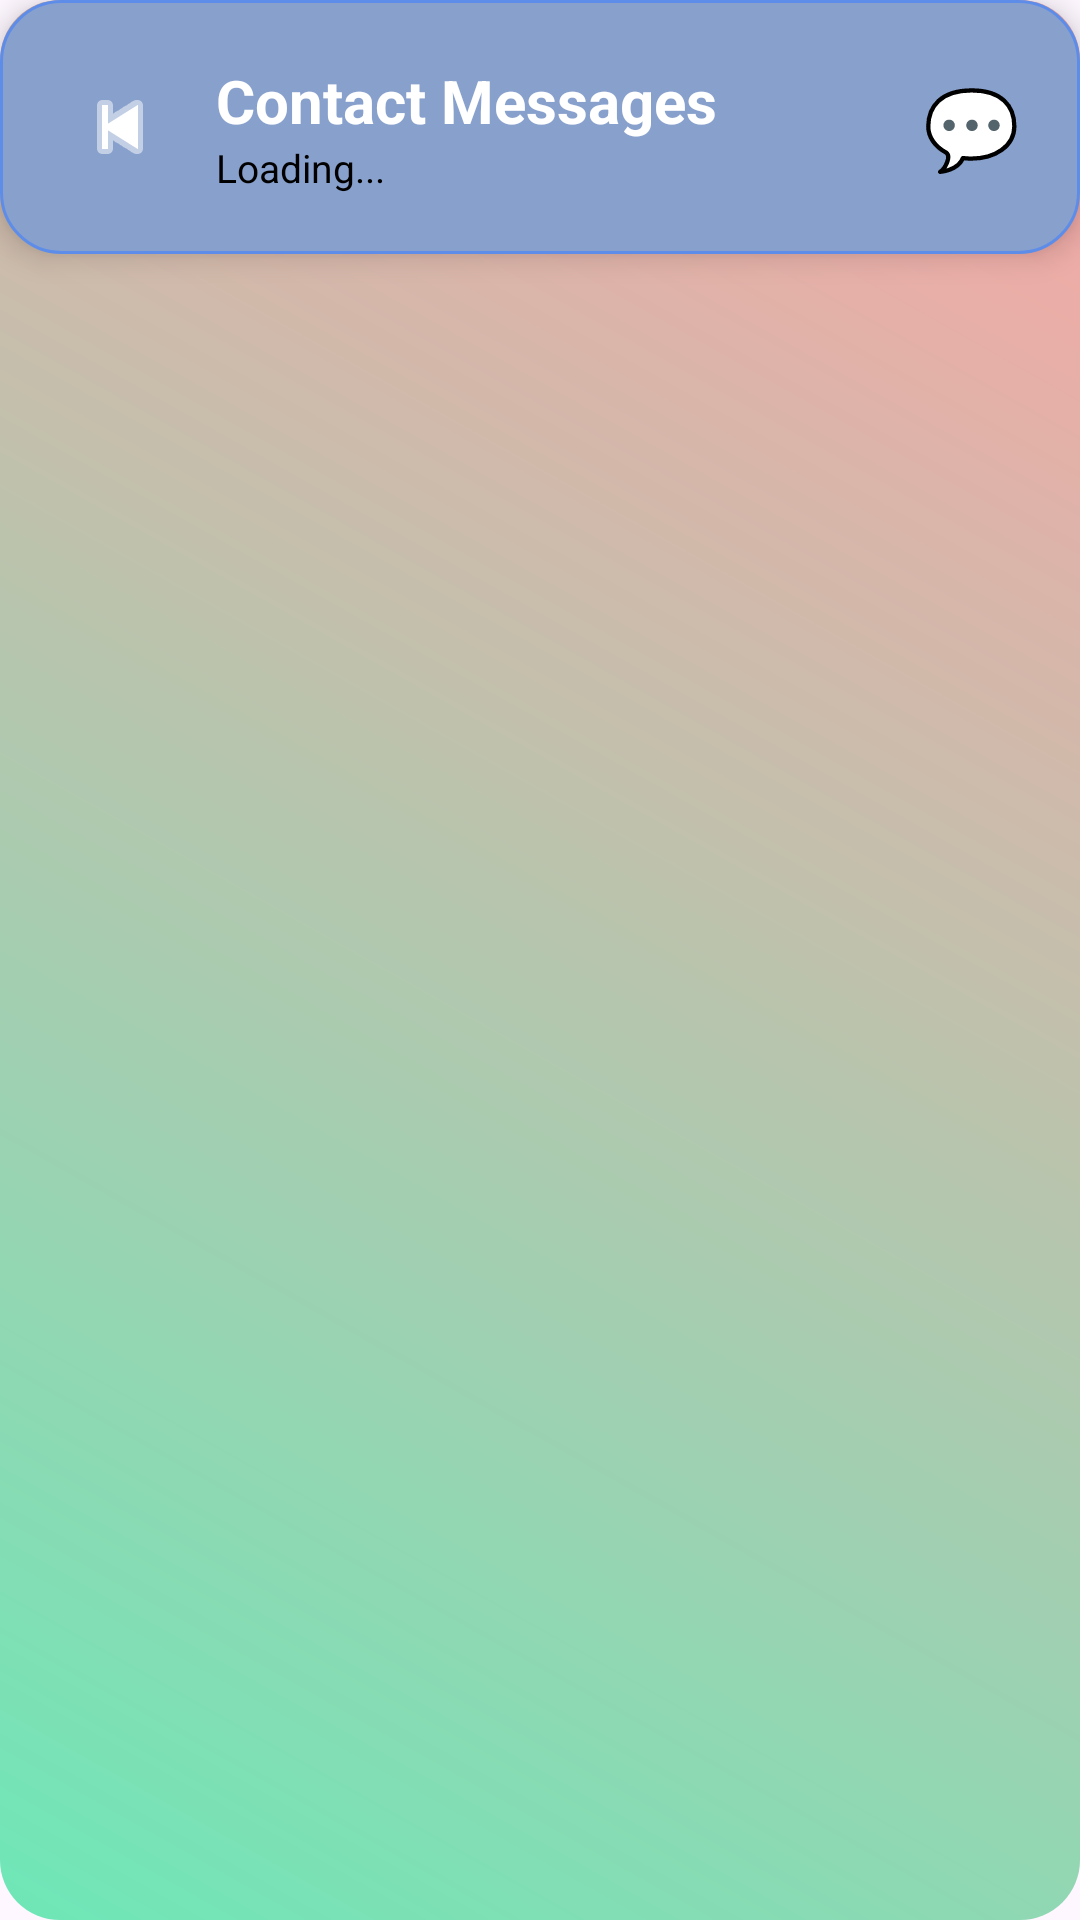

Icon bounding boxes for this 1080×1920 phone screenshot, format (x1, y1, x2, y2):
previous: (97, 100, 143, 154)
